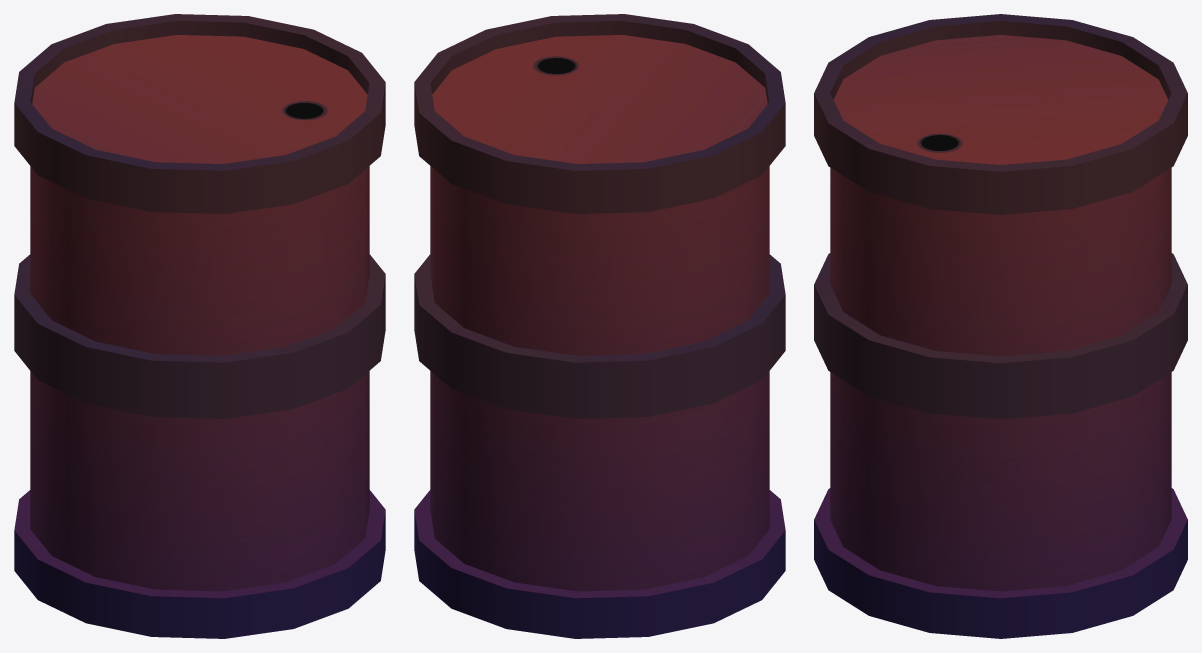
The model's file is V3OilBarrel.fbx.
The picture shows the model from 3 angles, left to right: view 1: azimuth 30°, elevation 25°; view 2: azimuth 150°, elevation 25°; view 3: azimuth 270°, elevation 25°; orthographic projection.
Parts seen in each view (by area): view 1: Cylinder; view 2: Cylinder; view 3: Cylinder.
Part boxes in pixels (x1=…): Cylinder: x1=14, y1=14, x2=385, y2=638; Cylinder: x1=414, y1=14, x2=785, y2=638; Cylinder: x1=814, y1=14, x2=1187, y2=638.
Size of the model in its own units: 219 by 302 by 219.
